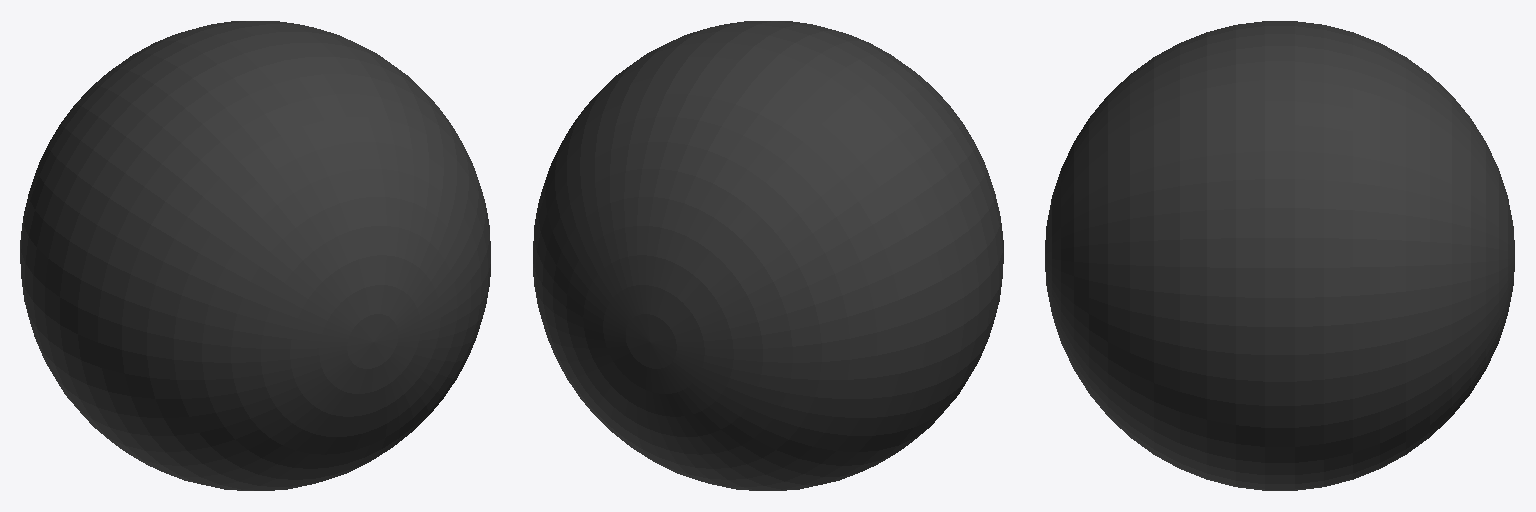
robot.urdf — ball_rubber:
<?xml version="1.0" encoding="utf-8"?>
<!-- This URDF was automatically created by SolidWorks to URDF Exporter! Originally created by [author] ([email redacted]) 
     Commit Version: 1.6.0-4-g7f85cfe  Build Version: 1.6.7995.38578
     For more information, please see http://wiki.ros.org/sw_urdf_exporter -->
<robot
  name="ball_rubber">
  <link
    name="base_link">
    <inertial>
      <origin
        xyz="-4.66590430475141E-19 0 0"
        rpy="0 0 0" />
      <mass
        value="0.0351446902622247" />
      <inertia
        ixx="5.80453078261169E-06"
        ixy="0"
        ixz="1.0331493317774E-37"
        iyy="5.80453078261169E-06"
        iyz="0"
        izz="5.80453078261169E-06" />
    </inertial>
    <visual>
      <origin
        xyz="0 0 0"
        rpy="0 0 0" />
      <geometry>
        <mesh
          filename="package://ball_rubber/meshes/base_link.STL" />
      </geometry>
      <material
        name="">
        <color
          rgba="0.298039215686275 0.298039215686275 0.298039215686275 1" />
      </material>
    </visual>
    <collision>
      <origin
        xyz="0 0 0"
        rpy="0 0 0" />
      <geometry>
        <mesh
          filename="package://ball_rubber/meshes/base_link.STL" />
      </geometry>
    </collision>
  </link>
</robot>

--- Render facts (derived) ---
Views: 3 orthographic renders of the robot side by side, from view 1: azimuth 30°, elevation 25°; view 2: azimuth 150°, elevation 25°; view 3: azimuth 270°, elevation 25°.
Model ball_rubber with 1 links and 0 joints (none), rooted at base_link, posed every joint at zero.
Visible links, largest first — view 1: base_link; view 2: base_link; view 3: base_link.
Boxes of the visible links, x1=… form: base_link: x1=20, y1=21, x2=490, y2=490; base_link: x1=533, y1=21, x2=1003, y2=490; base_link: x1=1045, y1=21, x2=1514, y2=490.
Bounding box of the posed robot: 0.0405 × 0.0406 × 0.0405 m (x, y, z).
Meshes: 1 distinct files referenced, 1 mesh visuals loaded (1 binary STL).